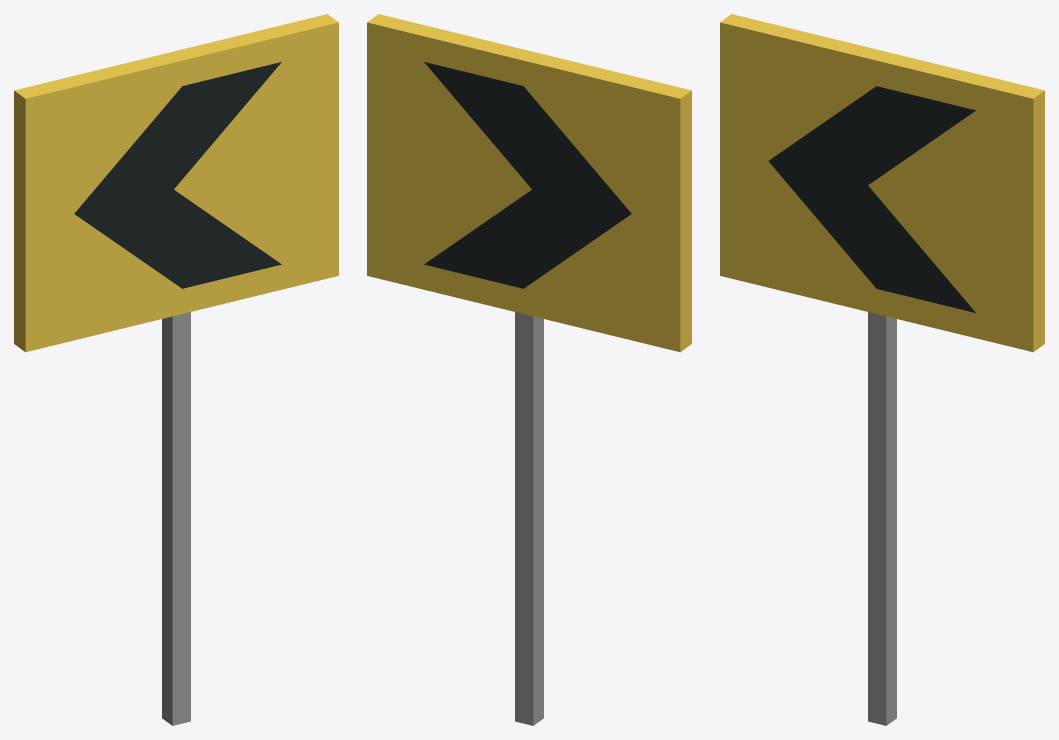
The model's file is chevron-board.glb.
3 renders of one model, left to right at view 1: azimuth 30°, elevation 25°; view 2: azimuth 150°, elevation 25°; view 3: azimuth 330°, elevation 25°, orthographic.
Visible parts, largest first — view 1: chevron-board; view 2: chevron-board; view 3: chevron-board.
Part boxes in pixels (x1=…): chevron-board: x1=14, y1=14, x2=338, y2=725; chevron-board: x1=367, y1=14, x2=691, y2=725; chevron-board: x1=720, y1=14, x2=1044, y2=725.
Bounding box in the file's own units: 1.1 × 2.22 × 0.072.
